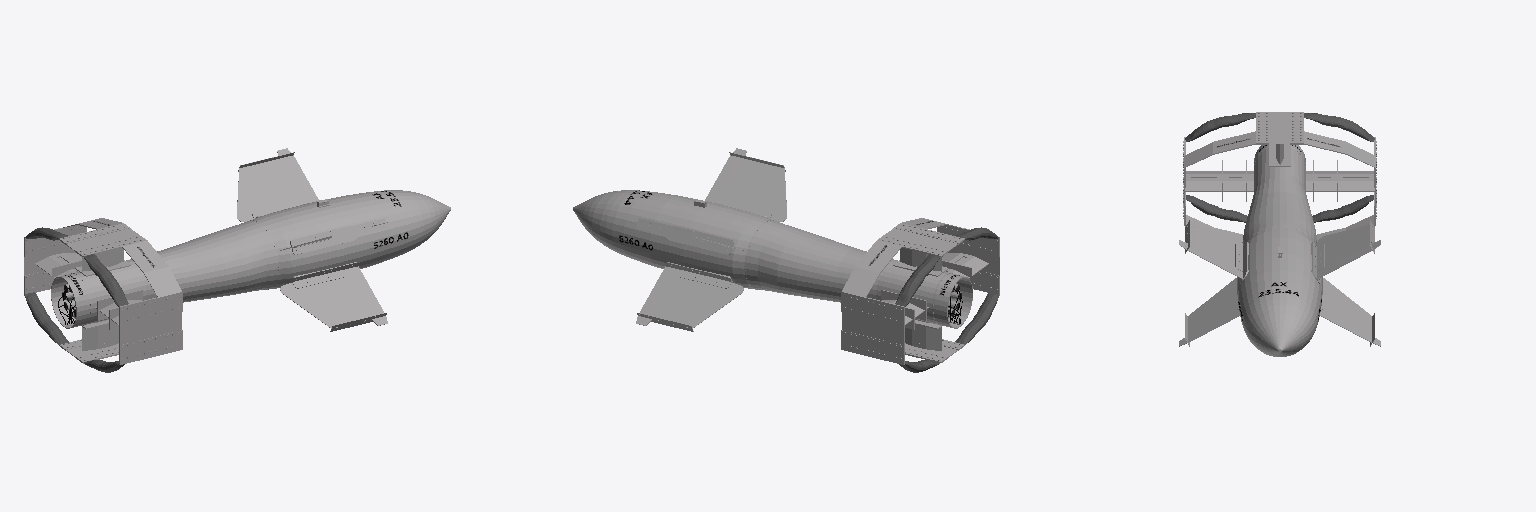
3 renders of one model, left to right at view 1: azimuth 30°, elevation 25°; view 2: azimuth 150°, elevation 25°; view 3: azimuth 270°, elevation 25°, orthographic.
Parts seen in each view (by area): view 1: fritz_X_bomb_Cylinder.001; view 2: fritz_X_bomb_Cylinder.001; view 3: fritz_X_bomb_Cylinder.001.
Boxes of the visible parts, <box> form: fritz_X_bomb_Cylinder.001: <box>24,148,450,372</box>; fritz_X_bomb_Cylinder.001: <box>573,148,999,372</box>; fritz_X_bomb_Cylinder.001: <box>1179,112,1380,356</box>.
Bounding box in the file's own units: 5.03 × 1.35 × 2.26.
1 materials, 1 textured.